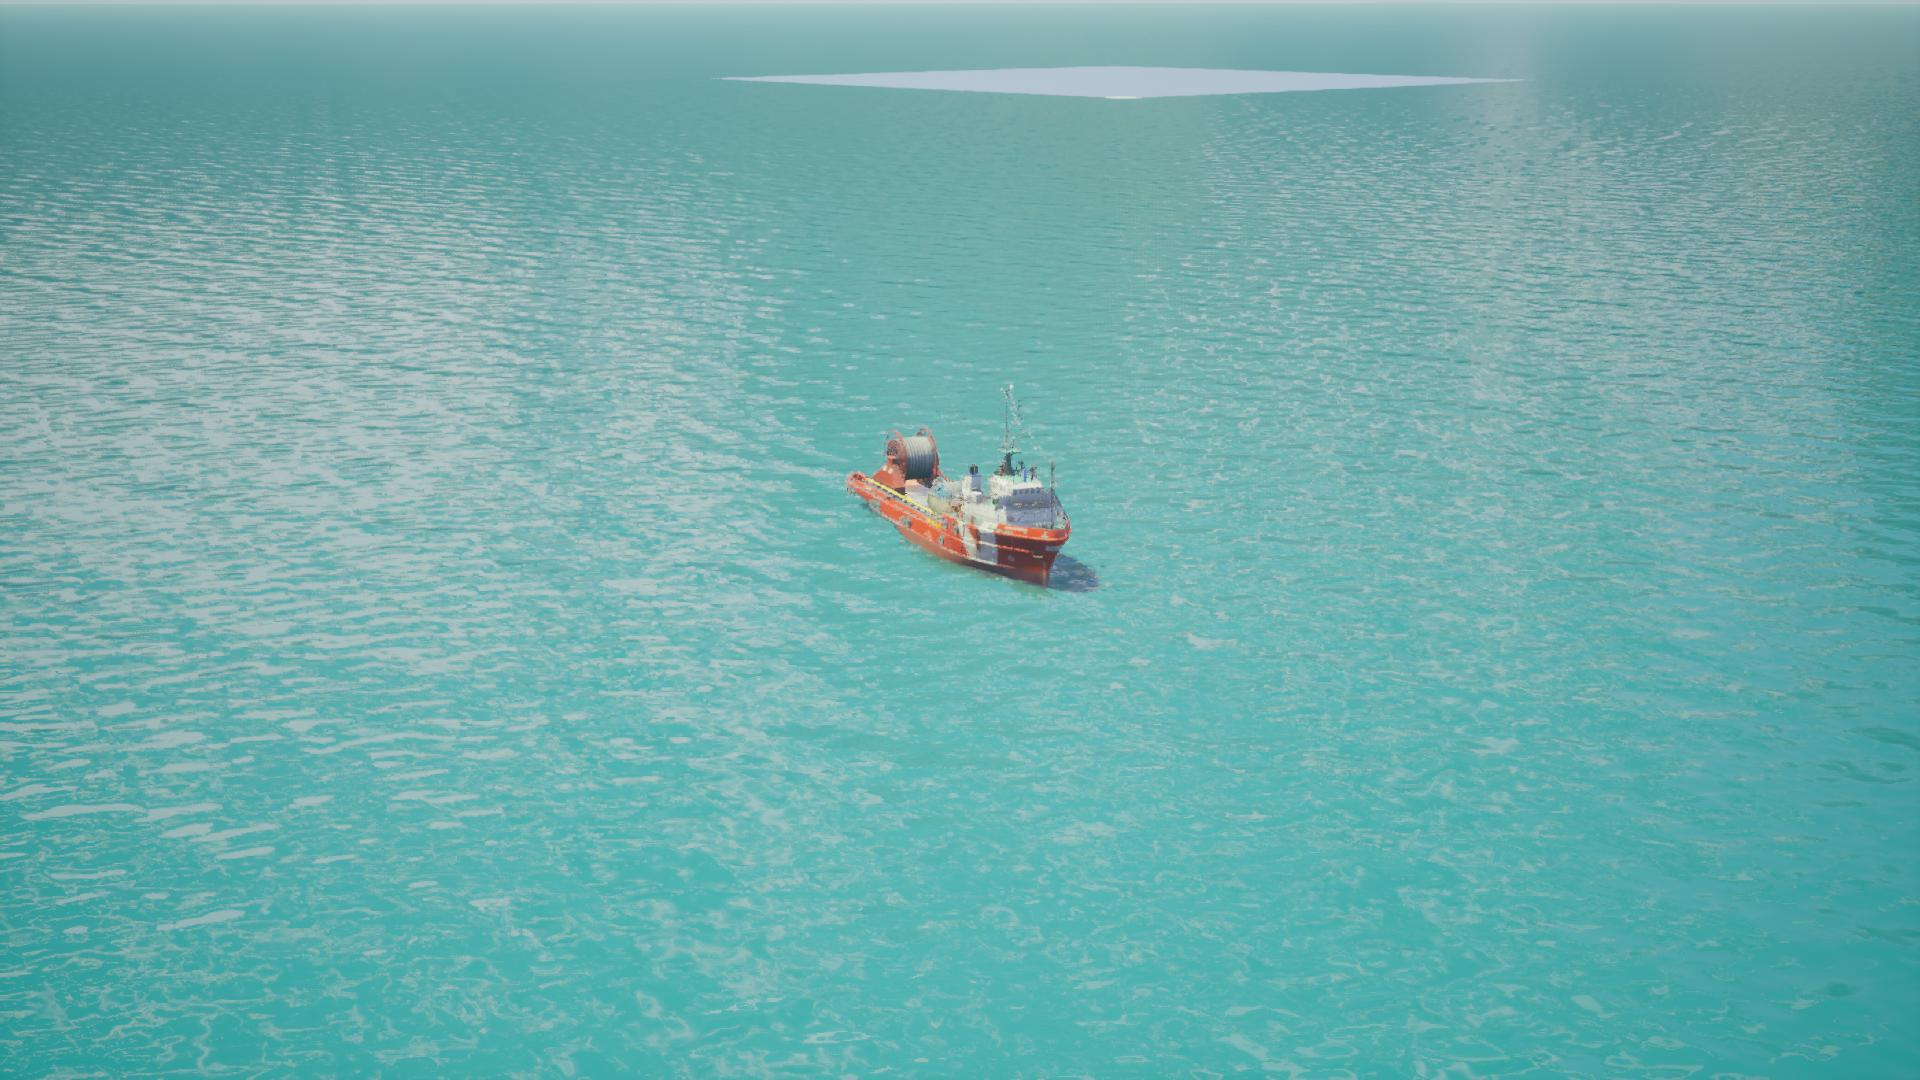Tug Boat: (844, 460, 1083, 593)
